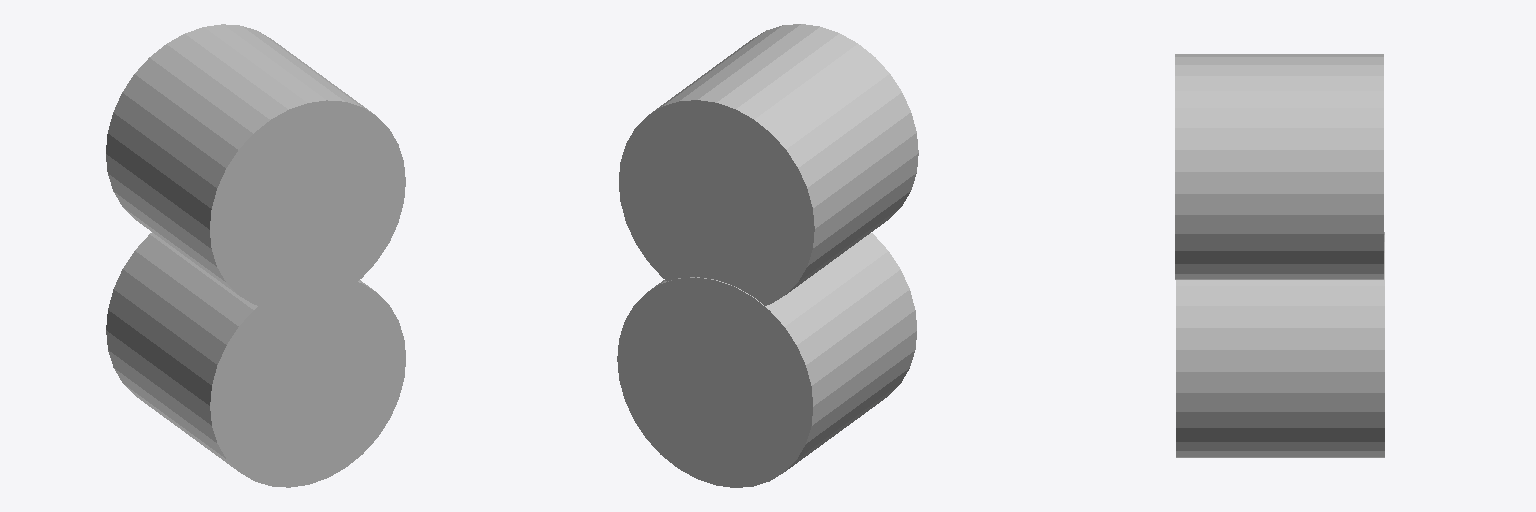
Rendered from builder-guitar.obj.
3 renders of one model, left to right at view 1: azimuth 30°, elevation 25°; view 2: azimuth 150°, elevation 25°; view 3: azimuth 270°, elevation 25°, orthographic.
Parts seen in each view (by area): view 1: guitar_Cylinder.002; view 2: guitar_Cylinder.002; view 3: guitar_Cylinder.002.
Part boxes in pixels (x1,y1,x2,y2): guitar_Cylinder.002: (106,24,405,487); guitar_Cylinder.002: (617,24,918,487); guitar_Cylinder.002: (1175,54,1384,457).
Bounding box in the file's own units: 2.17 × 4.03 × 1.99.